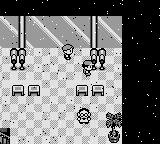main: (82, 61, 96, 75)
no-caminable: (1, 0, 160, 143), (22, 17, 94, 47), (95, 17, 123, 48), (0, 16, 22, 48), (106, 112, 122, 143), (11, 47, 26, 68), (90, 48, 105, 69)
npc: (77, 109, 91, 124), (62, 45, 74, 59)
puerta: (1, 128, 10, 143)
